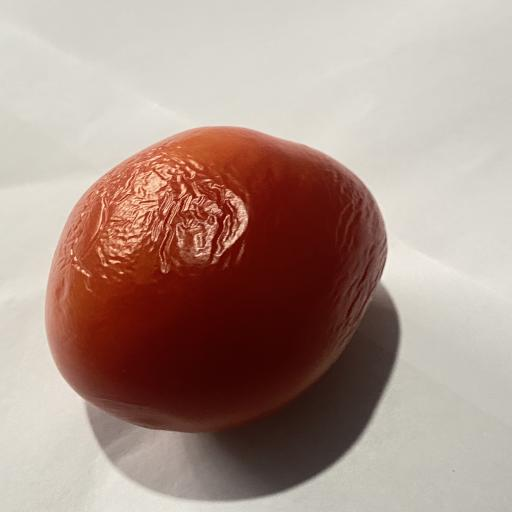spoiled: (46, 127, 386, 432)
